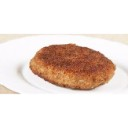cutlet: (29, 42, 118, 88)
